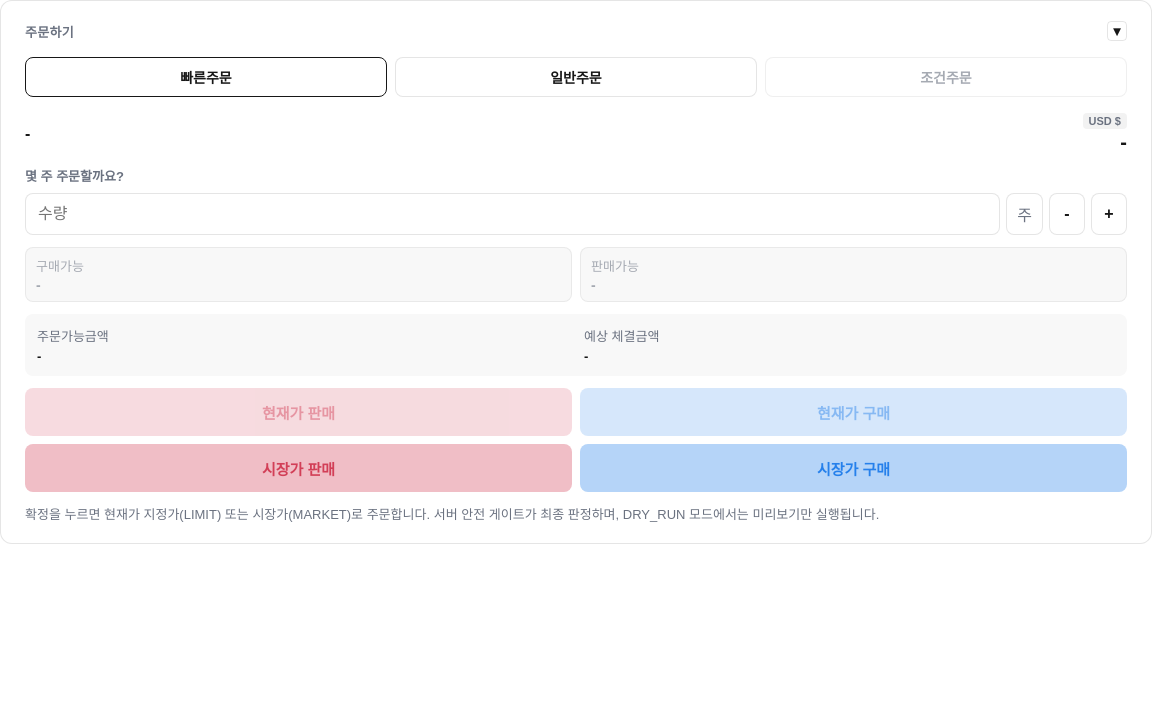
it: OrderForm — general order › renders the core fields and the confirm checkbox
Click the tab "일반주문" at point(576, 77), box [395,57,757,97]
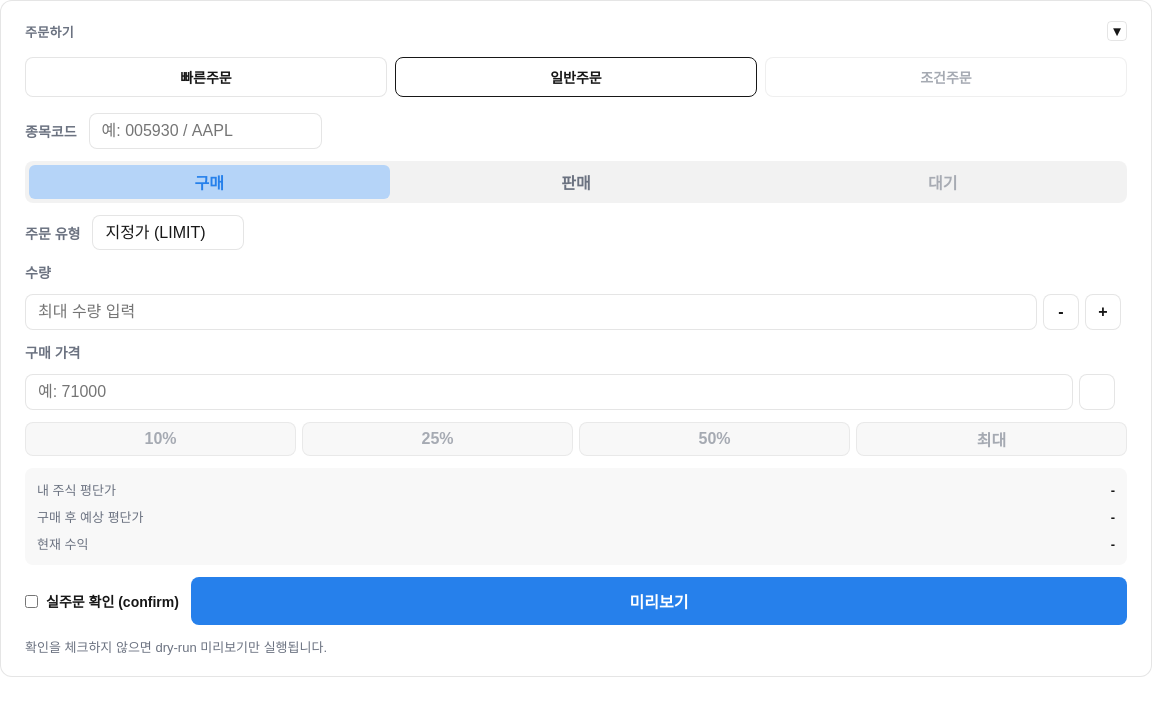
Expected: the field labelled "종목코드" is shown, [88,113,322,149]
Expected: the dropdown labelled "주문 유형" is shown, [92,215,244,250]
Expected: the field labelled "수량" is shown, [25,294,1037,330]
